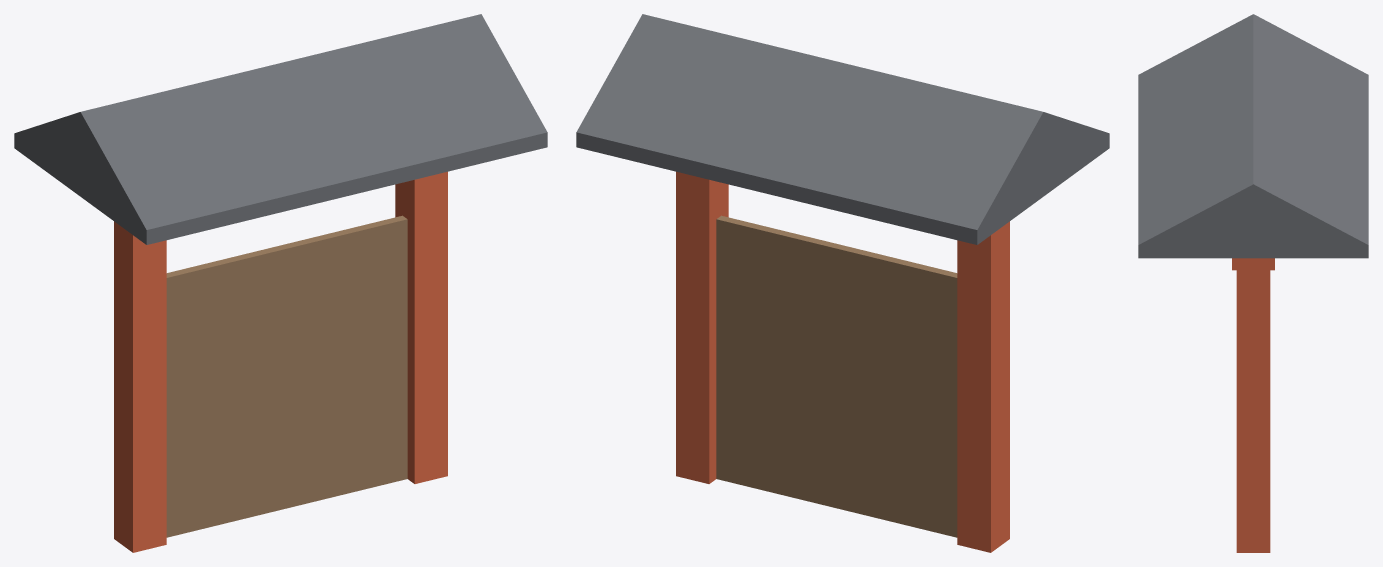
Rendered from kyoto_palace_gate.glb.
3 views of the same model, side by side, from view 1: azimuth 30°, elevation 25°; view 2: azimuth 150°, elevation 25°; view 3: azimuth 270°, elevation 25° (orthographic). The views are drawn at different scales.
Visible parts, largest first — view 1: roof, door_r, door_l, post_l, post_r; view 2: roof, door_r, door_l, post_l, post_r; view 3: roof, post_r, kashiranuki.
Part boxes in pixels (left/top/right/bottom): roof: left=14, top=14, right=547, bottom=244; door_r: left=279, top=215, right=407, bottom=509; door_l: left=166, top=246, right=283, bottom=537; post_l: left=114, top=221, right=166, bottom=552; post_r: left=395, top=171, right=447, bottom=483; roof: left=576, top=14, right=1109, bottom=244; door_r: left=716, top=215, right=844, bottom=509; door_l: left=840, top=246, right=957, bottom=537; post_l: left=957, top=221, right=1009, bottom=552; post_r: left=676, top=171, right=728, bottom=483; roof: left=1138, top=14, right=1368, bottom=258; post_r: left=1236, top=270, right=1270, bottom=552; kashiranuki: left=1232, top=258, right=1274, bottom=270.
Size of the model in its own units: 8.4 by 8.9 by 4.8.
